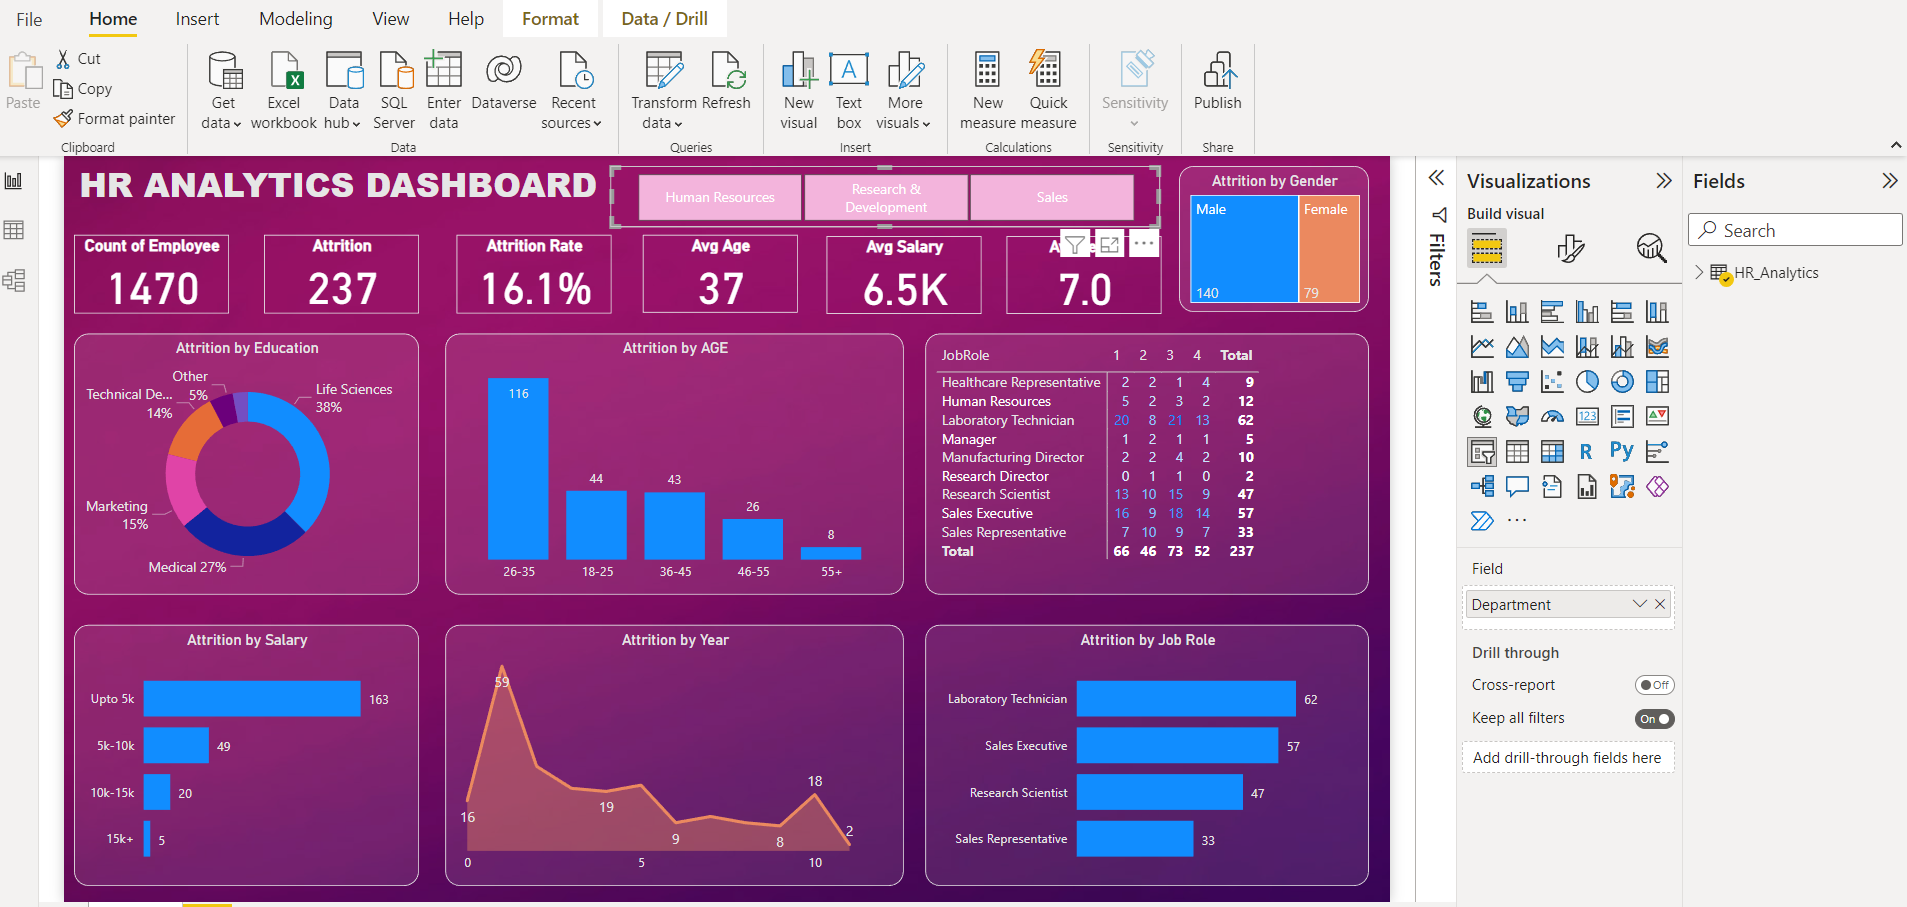

What the dashboard file says about the page in this screenshot:
{"tool":"powerbi","page":{"name":"Page 1","canvas":[1280,720],"ordinal":0},"visuals":[{"type":"card","title":"Count of Employee","fields":{"Values":["CountNonNull(HR_Analytics.EmpID)"]},"box":[9.6,76,149.5,76],"z":0},{"type":"card","title":"Attrition","fields":{"Values":["Sum(HR_Analytics.AttritionCount)"]},"box":[193,76,149.5,76],"z":1000},{"type":"card","title":"Attrition Rate","fields":{"Values":["HR_Analytics.AttritionRate"]},"box":[378.7,76,149.5,76],"z":2000},{"type":"card","title":"Avg Age","fields":{"Values":["Avg(HR_Analytics.Age)"]},"box":[558.1,76.4,149.5,75.5],"z":3000},{"type":"card","title":"Avg Salary","fields":{"Values":["Avg(HR_Analytics.MonthlyIncome)"]},"box":[735.1,77.7,149.5,75.5],"z":4000},{"type":"card","title":"Avg Years","fields":{"Values":["Avg(HR_Analytics.YearsAtCompany)"]},"box":[909.3,77.7,149.5,75.5],"z":5000},{"type":"donutChart","title":"Attrition by Education","fields":{"Category":["HR_Analytics.EducationField"],"Y":["Sum(HR_Analytics.AttritionCount)"]},"box":[9.6,171.3,332.9,252.1],"z":6000},{"type":"columnChart","title":"Attrition by AGE","fields":{"Category":["HR_Analytics.AgeGroup"],"Y":["Sum(HR_Analytics.AttritionCount)"]},"box":[367.8,171.3,442.6,252.1],"z":7000},{"type":"pivotTable","fields":{"Rows":["HR_Analytics.JobRole"],"Columns":["HR_Analytics.JobSatisfaction"],"Values":["Sum(HR_Analytics.AttritionCount)"]},"box":[831,171.3,428.1,252.1],"z":8000},{"type":"barChart","title":"Attrition by Salary","fields":{"Category":["HR_Analytics.SalarySlab"],"Y":["Sum(HR_Analytics.AttritionCount)"]},"box":[9.6,452.3,332.9,252.1],"z":9000},{"type":"barChart","title":"Attrition by Job Role","fields":{"Category":["HR_Analytics.JobRole"],"Y":["Sum(HR_Analytics.AttritionCount)"]},"box":[831,452.3,428.1,252.1],"z":10000},{"type":"areaChart","title":"Attrition by Year","fields":{"Category":["HR_Analytics.YearsAtCompany"],"Y":["Sum(HR_Analytics.AttritionCount)"]},"box":[367.8,452.3,442.6,252.1],"z":11000},{"type":"treemap","title":"Attrition by Gender","fields":{"Group":["HR_Analytics.Gender"],"Values":["Sum(HR_Analytics.AttritionCount)"]},"box":[1075.8,9.6,183.3,141.1],"z":12000},{"type":"slicer","fields":{"Values":["HR_Analytics.Department"]},"box":[527,9.6,530.7,59.1],"z":13000},{"type":"textbox","box":[9.6,0,557.2,76],"z":14000}]}

Visuals, with their boxes on the page's 1280x720 design canvas (x1, y1, x2, y2). These are canvas units, not pixel positions in the 1907x907 screenshot, which may show the page scaled, cropped or inside an application window:
"Count of Employee" card: pyautogui.locateOnScreen(10, 76, 159, 152)
"Attrition" card: pyautogui.locateOnScreen(193, 76, 342, 152)
"Attrition Rate" card: pyautogui.locateOnScreen(379, 76, 528, 152)
"Avg Age" card: pyautogui.locateOnScreen(558, 76, 708, 152)
"Avg Salary" card: pyautogui.locateOnScreen(735, 78, 885, 153)
"Avg Years" card: pyautogui.locateOnScreen(909, 78, 1059, 153)
"Attrition by Education" donutChart: pyautogui.locateOnScreen(10, 171, 342, 423)
"Attrition by AGE" columnChart: pyautogui.locateOnScreen(368, 171, 810, 423)
pivotTable - HR_Analytics.JobRole x HR_Analytics.JobSatisfaction: pyautogui.locateOnScreen(831, 171, 1259, 423)
"Attrition by Salary" barChart: pyautogui.locateOnScreen(10, 452, 342, 704)
"Attrition by Job Role" barChart: pyautogui.locateOnScreen(831, 452, 1259, 704)
"Attrition by Year" areaChart: pyautogui.locateOnScreen(368, 452, 810, 704)
"Attrition by Gender" treemap: pyautogui.locateOnScreen(1076, 10, 1259, 151)
slicer - HR_Analytics.Department: pyautogui.locateOnScreen(527, 10, 1058, 69)
textbox: pyautogui.locateOnScreen(10, 0, 567, 76)
